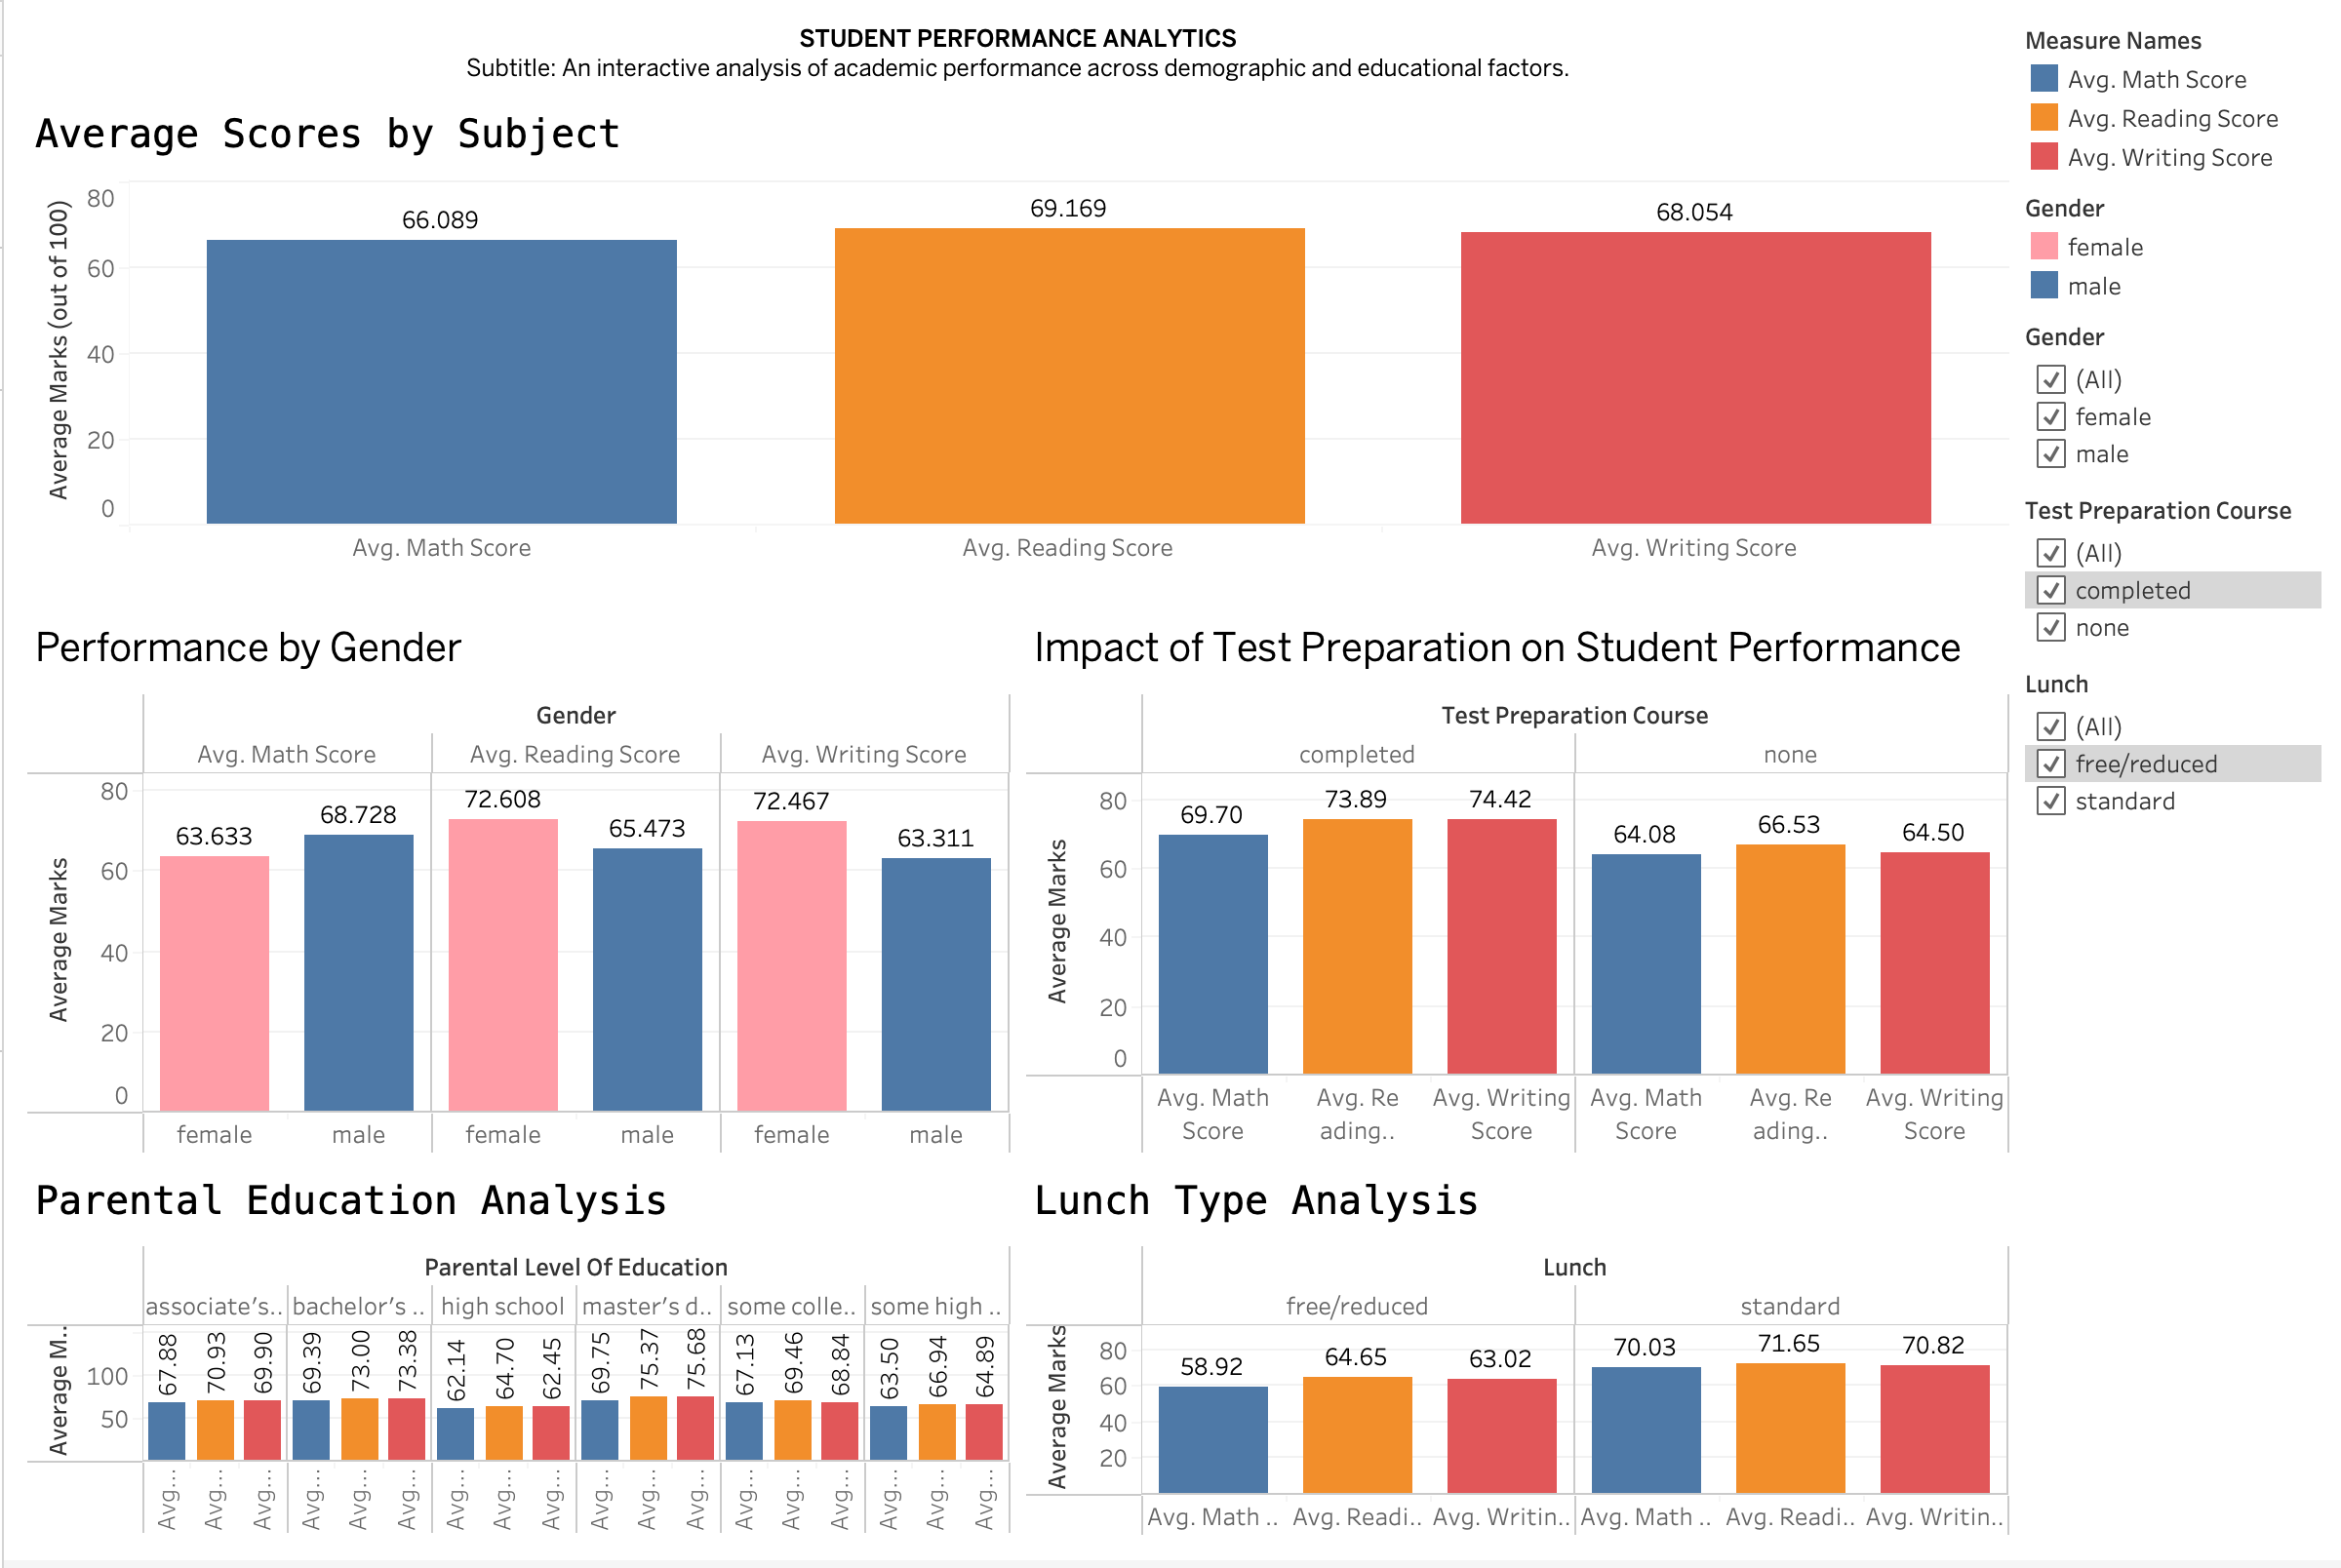

This screenshot's page, from the dashboard's own definition file:
{"tool":"tableau","page":{"name":"Dashboard 1","canvas":[1200,900],"ordinal":0},"visuals":[{"type":"text","box":[8,8,1024,46]},{"type":"legend","title":"Sheet 1","param":"[federated.1ns1ko70hm97ii1fneq051fn3jv2].[:Measure Names]","box":[1032,8,160,86]},{"type":"worksheet","title":"Sheet 1","mark":"Bar","box":[8,54,1024,396]},{"type":"legend","title":"Sheet 2","param":"[federated.1ns1ko70hm97ii1fneq051fn3jv2].[none:gender:nk]","box":[1032,94,160,66]},{"type":"filter","title":"Sheet 2","param":"[federated.1ns1ko70hm97ii1fneq051fn3jv2].[none:gender:nk]","box":[1032,160,160,89]},{"type":"filter","title":"Sheet 3","param":"[federated.1ns1ko70hm97ii1fneq051fn3jv2].[none:test preparation course:nk]","box":[1032,249,160,89]},{"type":"filter","title":"Sheet 5","param":"[federated.1ns1ko70hm97ii1fneq051fn3jv2].[none:lunch:nk]","box":[1032,338,160,89]},{"type":"worksheet","title":"Sheet 2","mark":"Automatic","cols":["gender"],"box":[8,450,512,221]},{"type":"worksheet","title":"Sheet 3","mark":"Bar","cols":["test preparation course"],"box":[520,450,512,221]},{"type":"worksheet","title":"Sheet 4","mark":"Bar","cols":["parental level of education"],"box":[8,671,512,221]},{"type":"worksheet","title":"Sheet 5","mark":"Bar","cols":["lunch"],"box":[520,671,512,221]}]}

Visuals, with their boxes on the page's 1200x900 design canvas (x1, y1, x2, y2). These are canvas units, not pixel positions in the 2341x1568 screenshot, which may show the page scaled, cropped or inside an application window:
text: 8, 8, 1032, 54
"Sheet 1" legend: 1032, 8, 1192, 94
"Sheet 1" worksheet (Bar marks): 8, 54, 1032, 450
"Sheet 2" legend: 1032, 94, 1192, 160
"Sheet 2" filter: 1032, 160, 1192, 249
"Sheet 3" filter: 1032, 249, 1192, 338
"Sheet 5" filter: 1032, 338, 1192, 427
"Sheet 2" worksheet: 8, 450, 520, 671
"Sheet 3" worksheet (Bar marks): 520, 450, 1032, 671
"Sheet 4" worksheet (Bar marks): 8, 671, 520, 892
"Sheet 5" worksheet (Bar marks): 520, 671, 1032, 892
